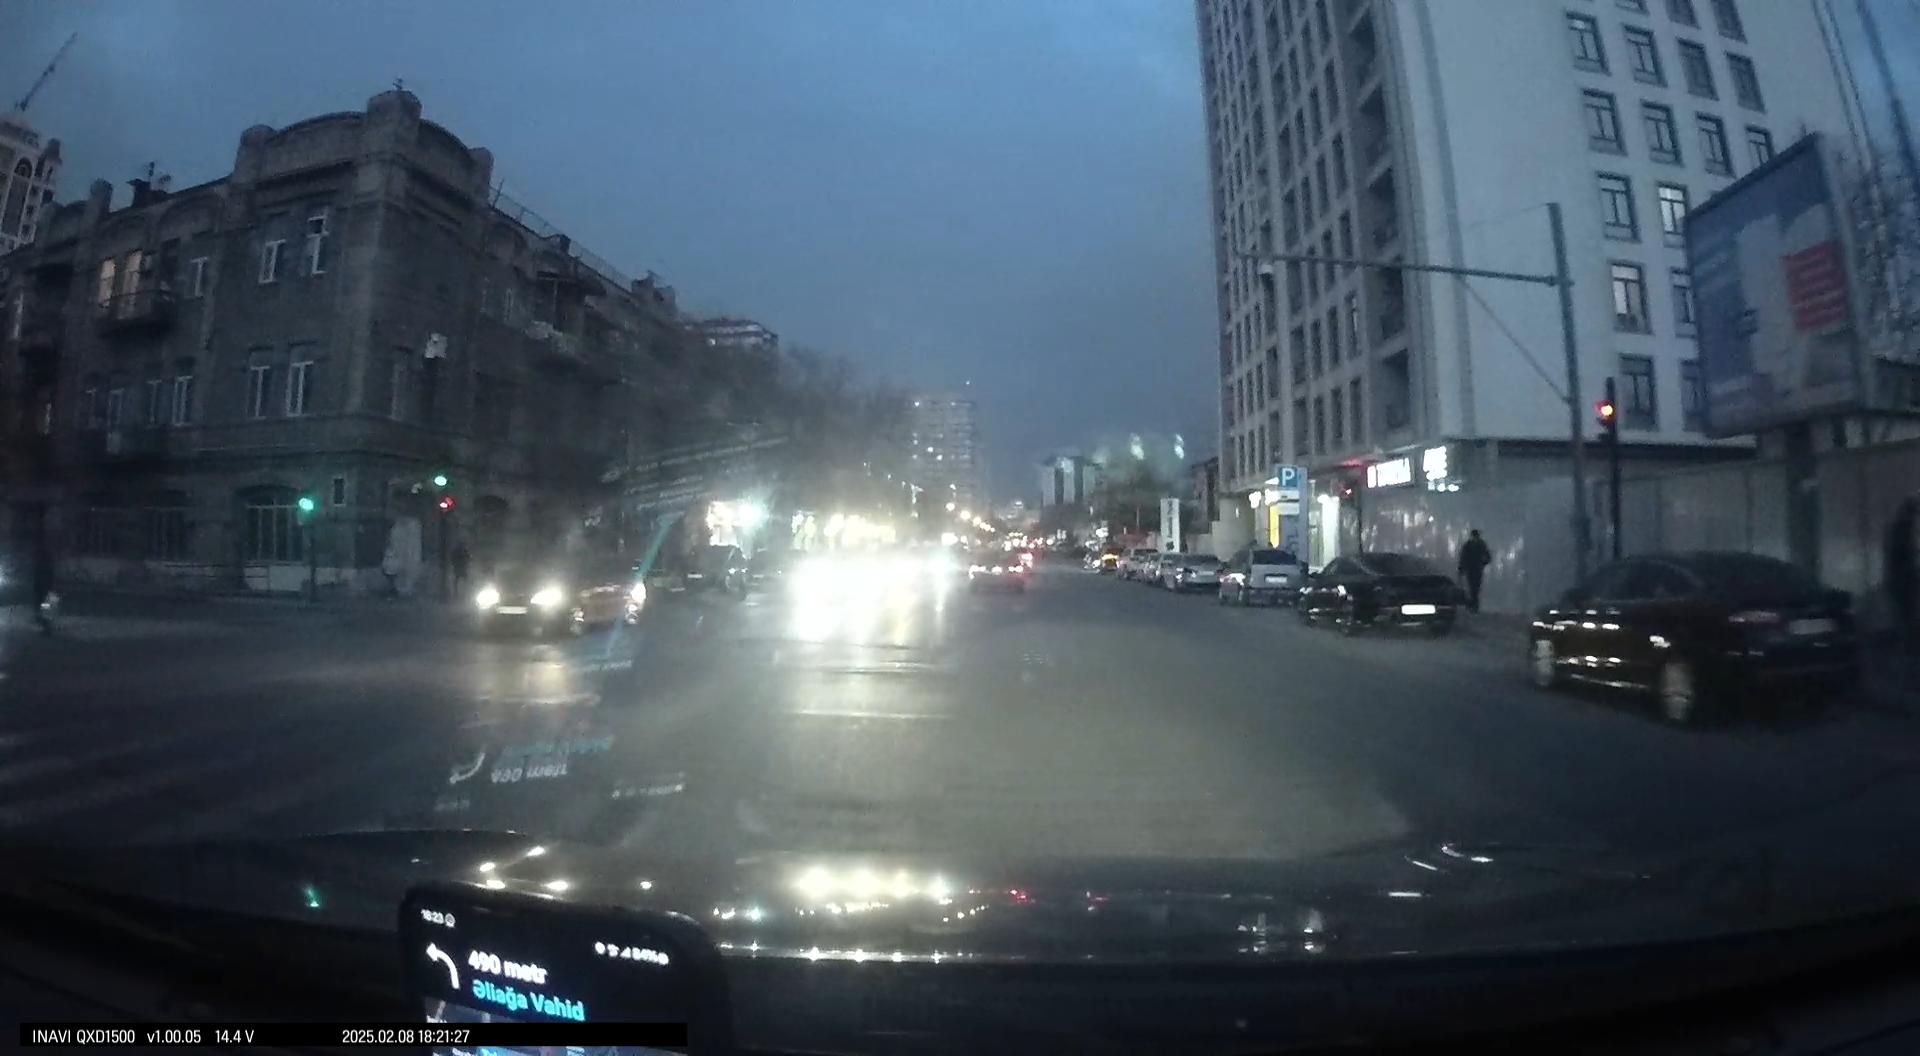banner: (1660, 134, 1873, 436)
